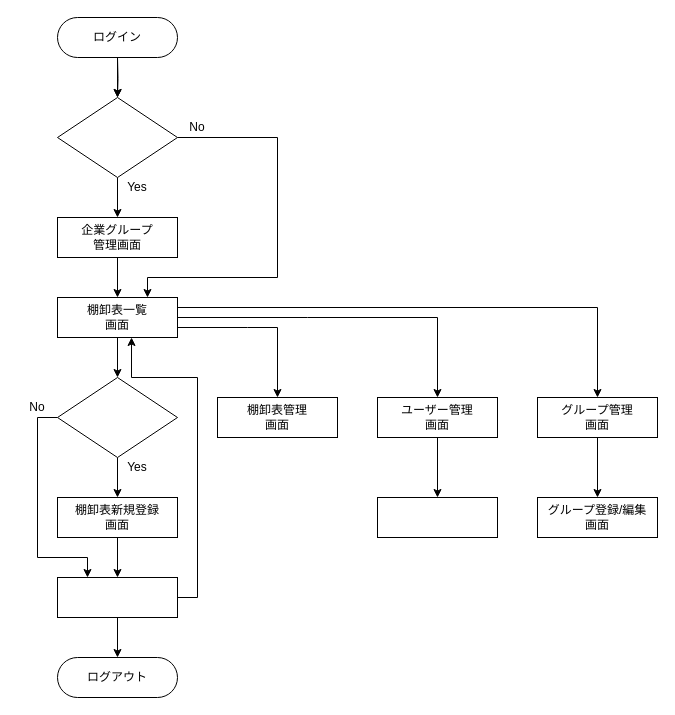
Image size: 675x715. Some labels were removed from this diagram. Each missing label, with the centre of its shape:
"システム管理者 ユーザー" belongs at (x=117, y=137).
"ユーザー登録/編集 画面" belongs at (x=437, y=517).
"新規作成" belongs at (x=117, y=417).
"棚卸表編集 画面" belongs at (x=117, y=597).
